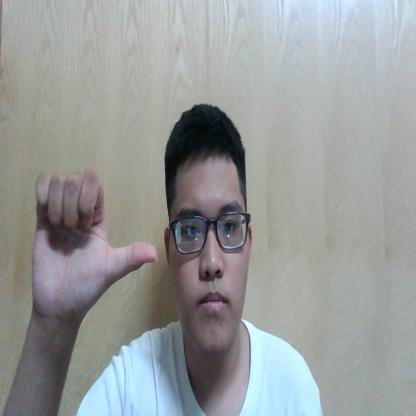left: (29, 166, 159, 310)
